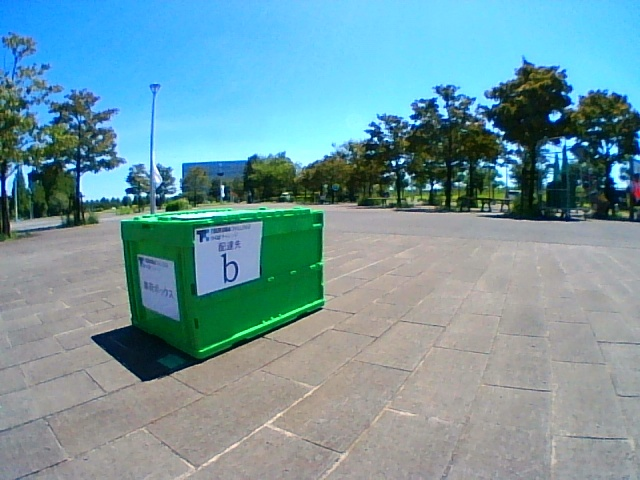green_box: (121, 209, 323, 358)
tag_b: (215, 229, 239, 288)
